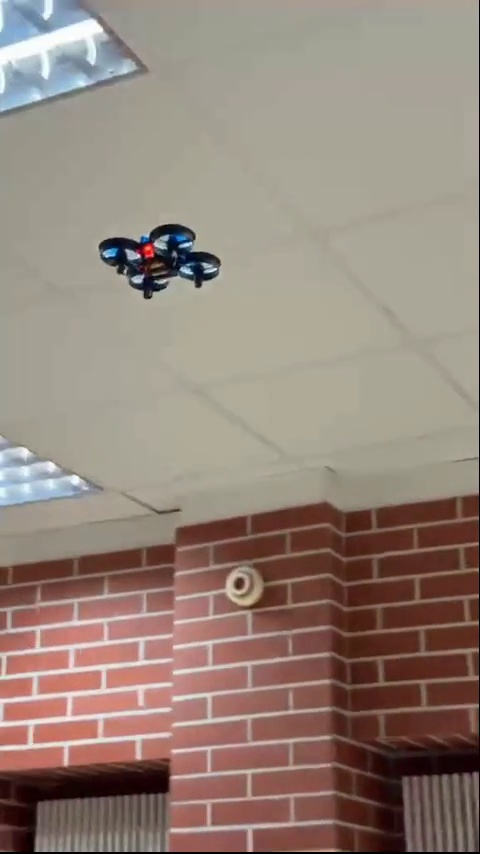drone: (97, 221, 219, 303)
